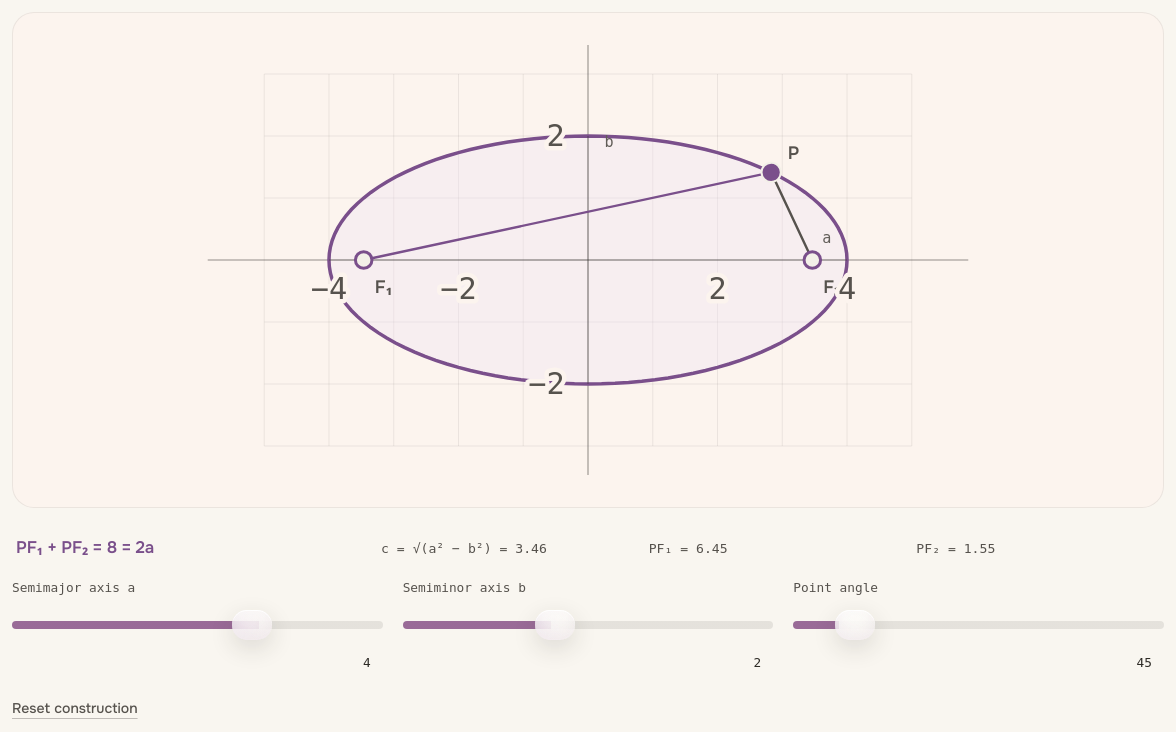
ExplainerRenderer › keeps an ellipse point's focal-distance sum equal to twice its semimajor axis
The width and height of the screenshot is (1176, 732).
Set the slider labelled "Semimajor axis a" to "5" at [375, 625], box [12, 603, 383, 647]
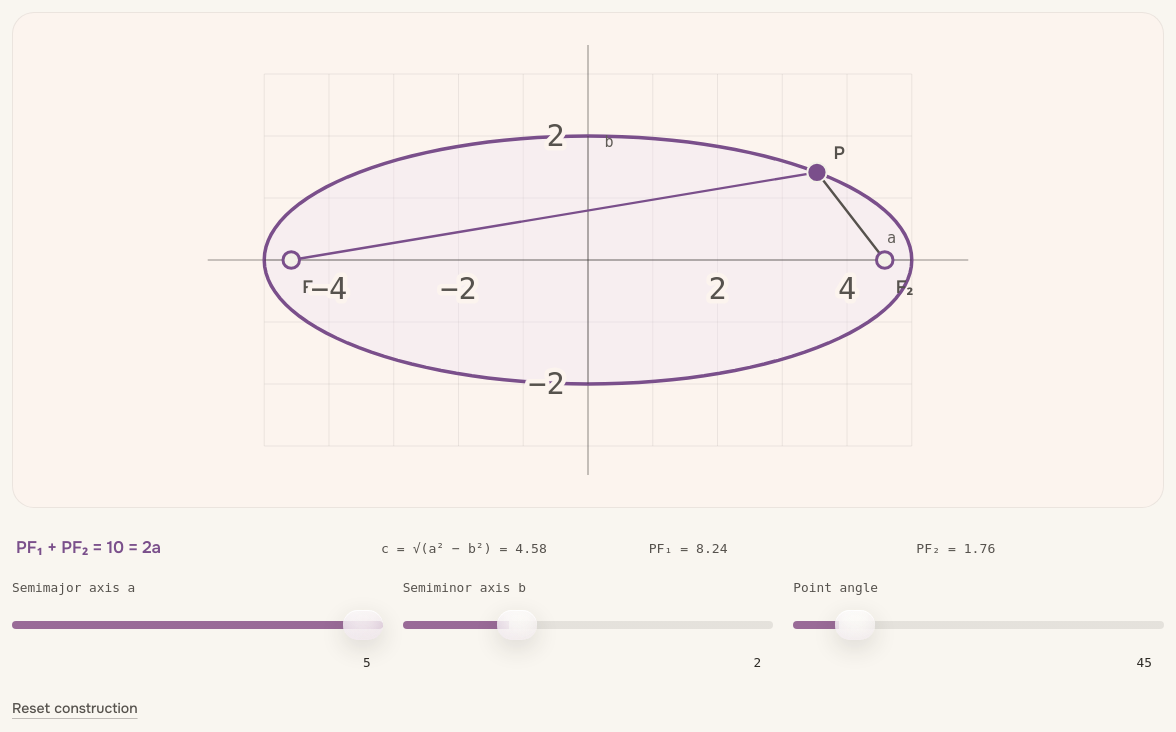
Set the slider labelled "Semiminor axis b" to "3" at [613, 625], box [403, 603, 773, 647]
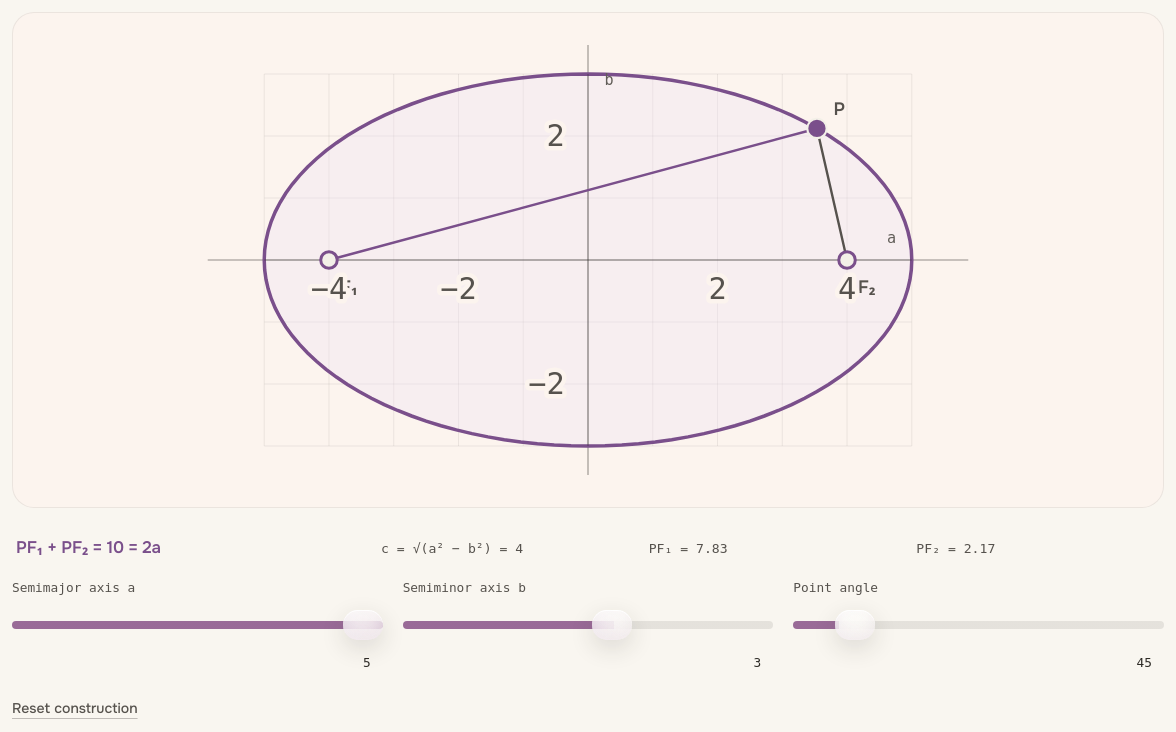
Set the slider labelled "Point angle" to "90" at [890, 625], box [793, 603, 1164, 647]
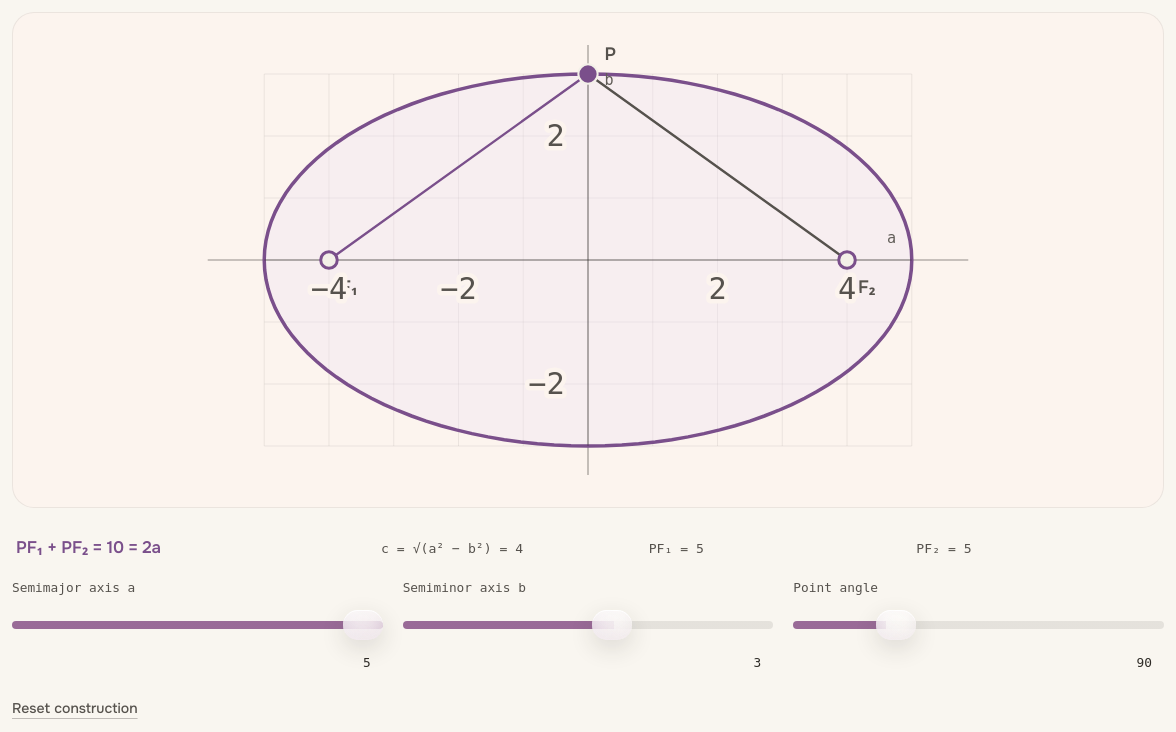
Expected: the text "PF₁ + PF₂ = 10 = 2a" is shown, [16, 537, 161, 558]
Expected: the text "PF₁ = 5" is shown, [649, 541, 704, 556]
Expected: the text "PF₂ = 5" is shown, [916, 541, 972, 556]
